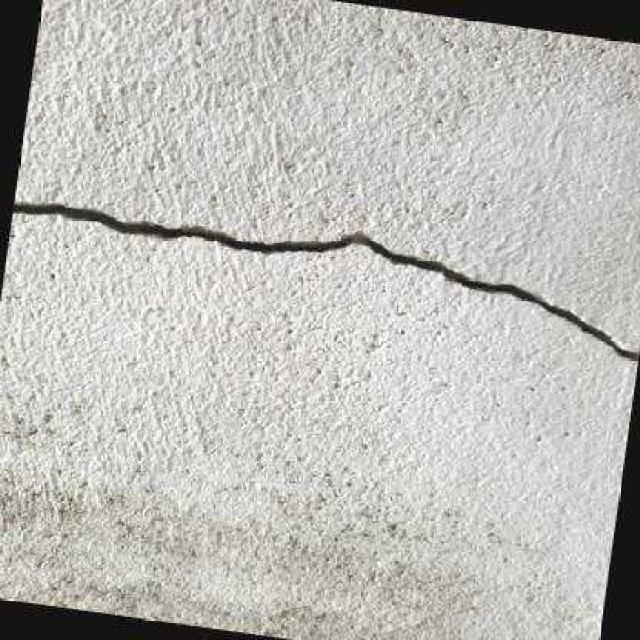D00: (12, 201, 639, 363)
